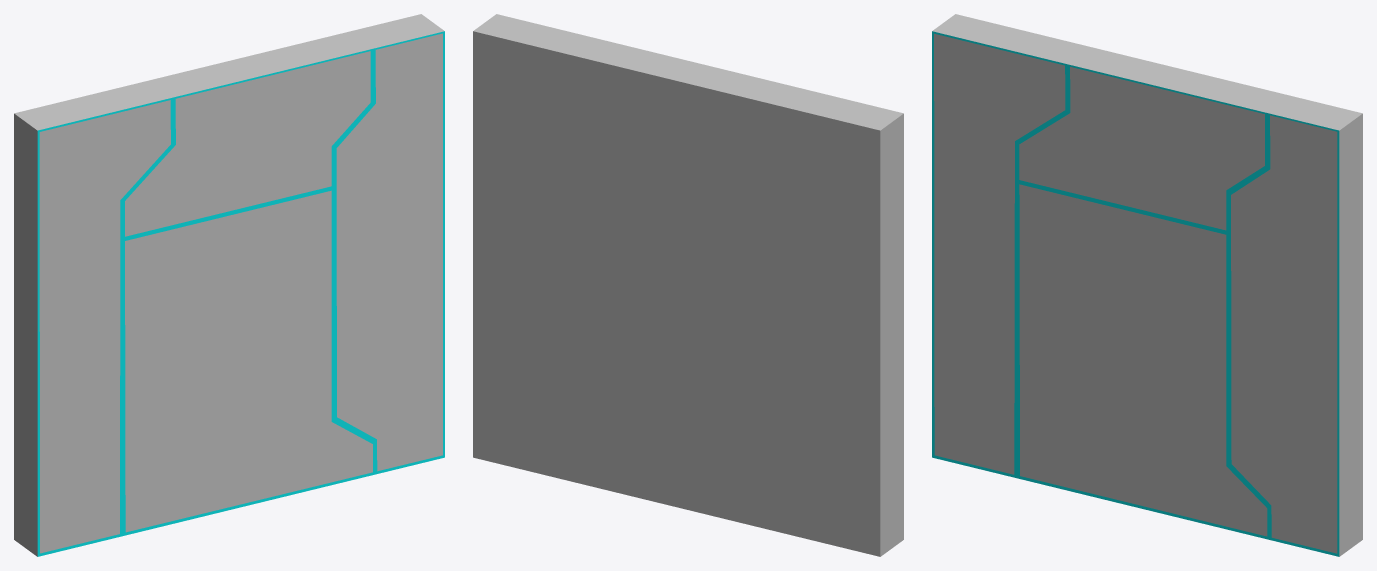
The model's file is Wall_008.fbx.
3 views of the same model, side by side, from view 1: azimuth 30°, elevation 25°; view 2: azimuth 150°, elevation 25°; view 3: azimuth 330°, elevation 25° (orthographic).
Parts seen in each view (by area): view 1: Wall_008; view 2: Wall_008; view 3: Wall_008.
Boxes of the visible parts, left/top/right/bottom form: Wall_008: left=14, top=14, right=444, bottom=556; Wall_008: left=473, top=14, right=903, bottom=556; Wall_008: left=932, top=14, right=1362, bottom=556.
Bounding box in the file's own units: 300 × 300 × 30.
